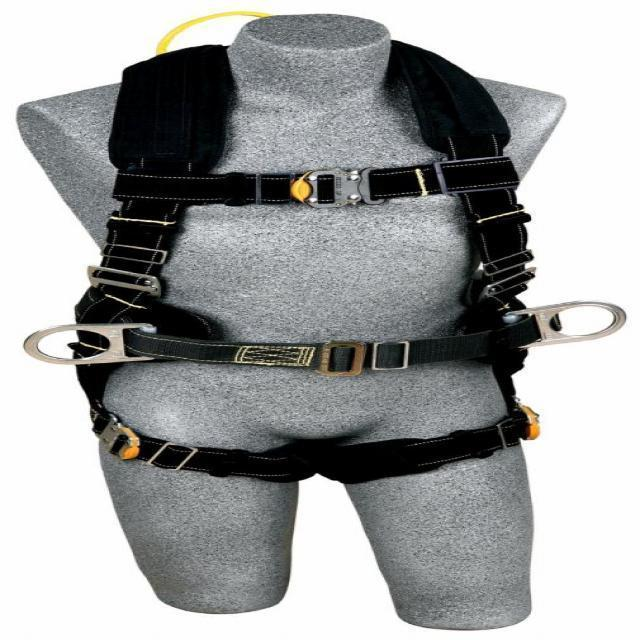Harness: (75, 41, 531, 484)
